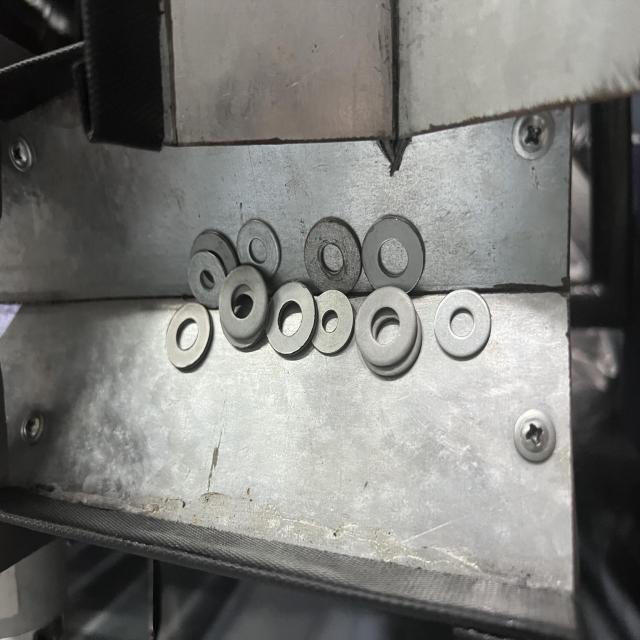washer: (356, 284, 415, 361), (433, 288, 494, 362), (220, 264, 267, 338)
